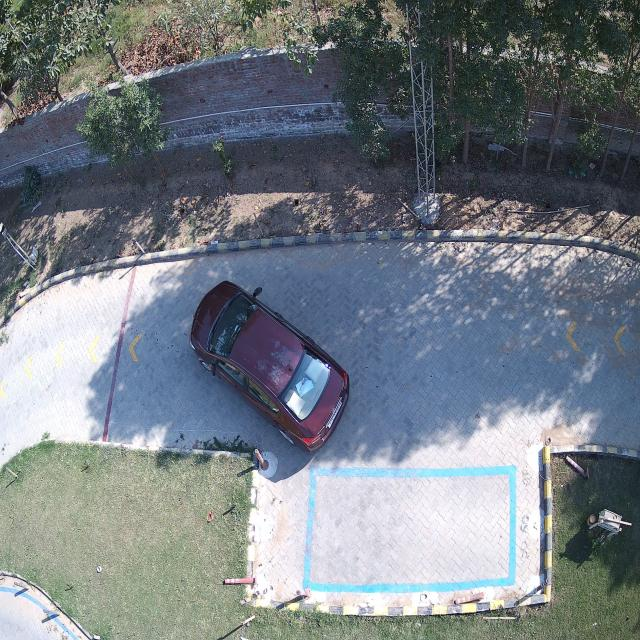car: (190, 282, 349, 452)
